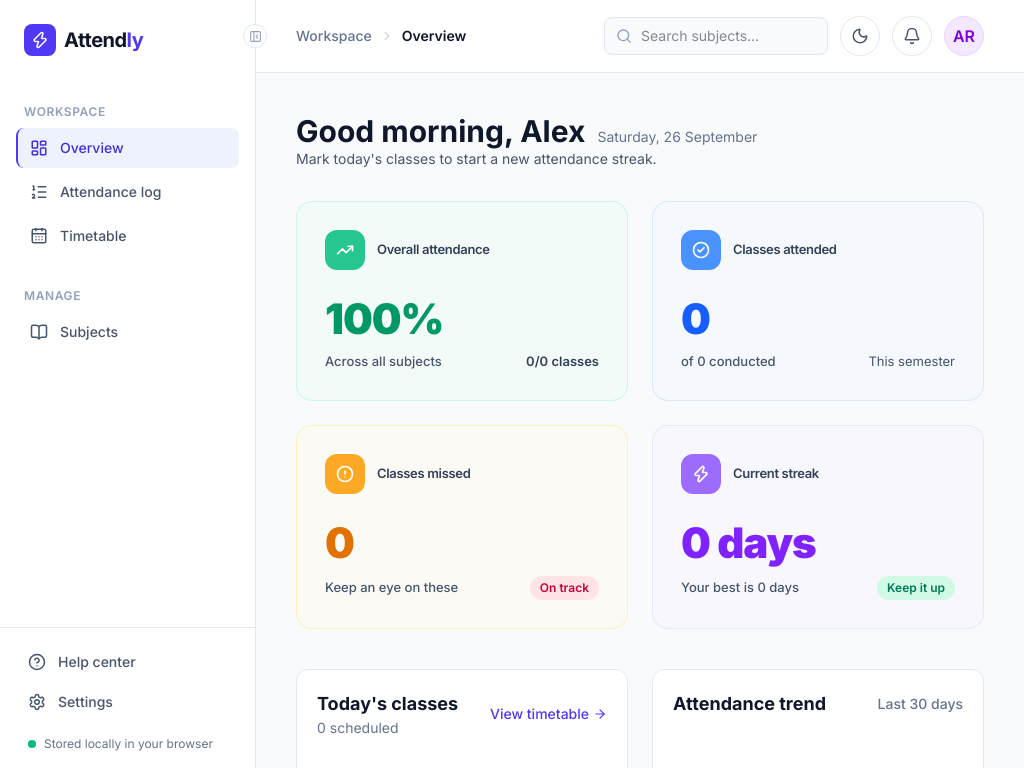
Test: app shell › filters subjects from the header search and shows the result count
Type "Networks" into the search field labelled "Search subjects" at (716, 36), box [604, 17, 828, 55]
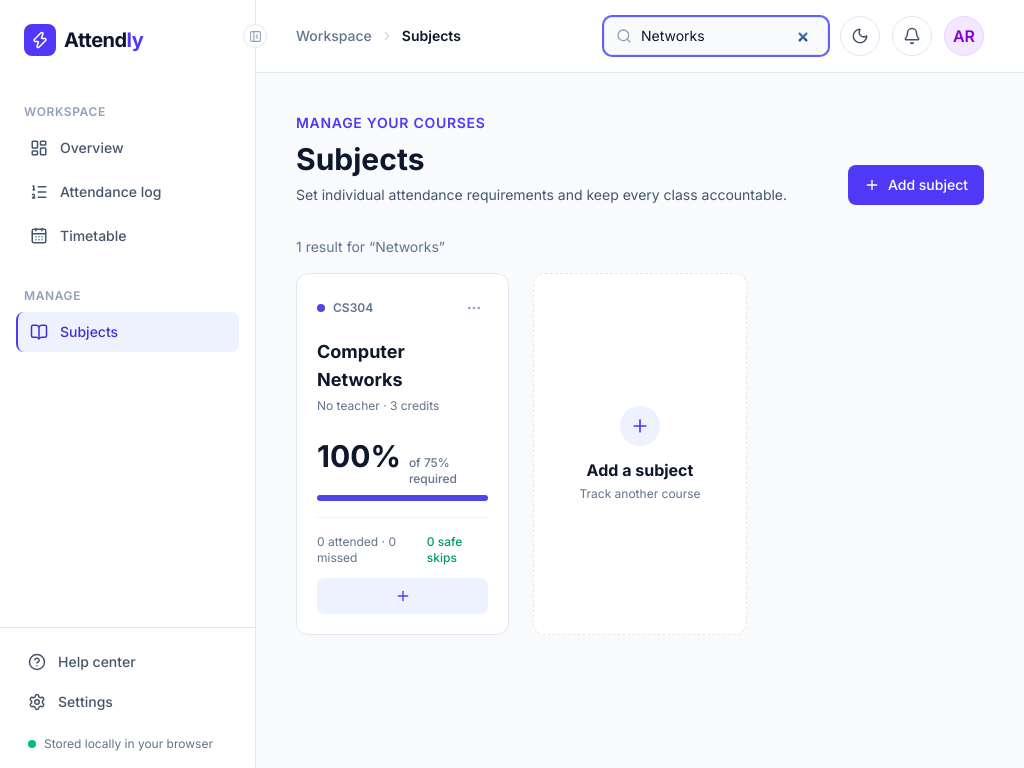
Expected: the heading "Subjects" is shown, [296, 141, 424, 177]
Expected: the text "1 result for “Networks”" is shown, [296, 238, 445, 255]
Expected: the button "Computer Networks" is shown, [317, 338, 488, 394]
